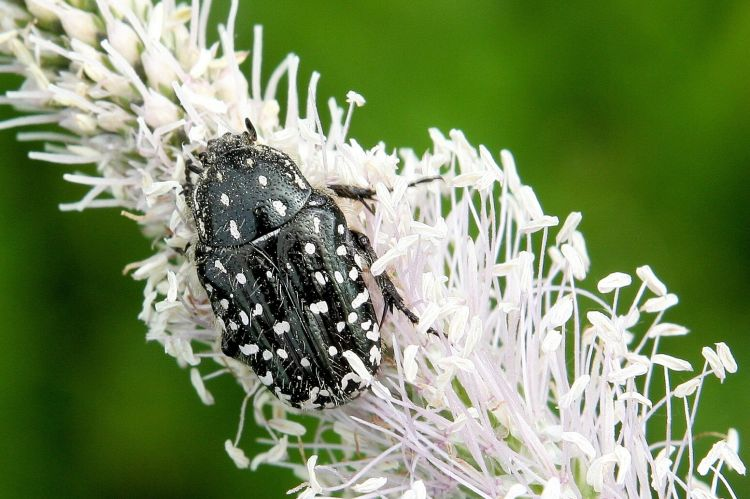Oxythyrea_funesta: (172, 114, 452, 432)
